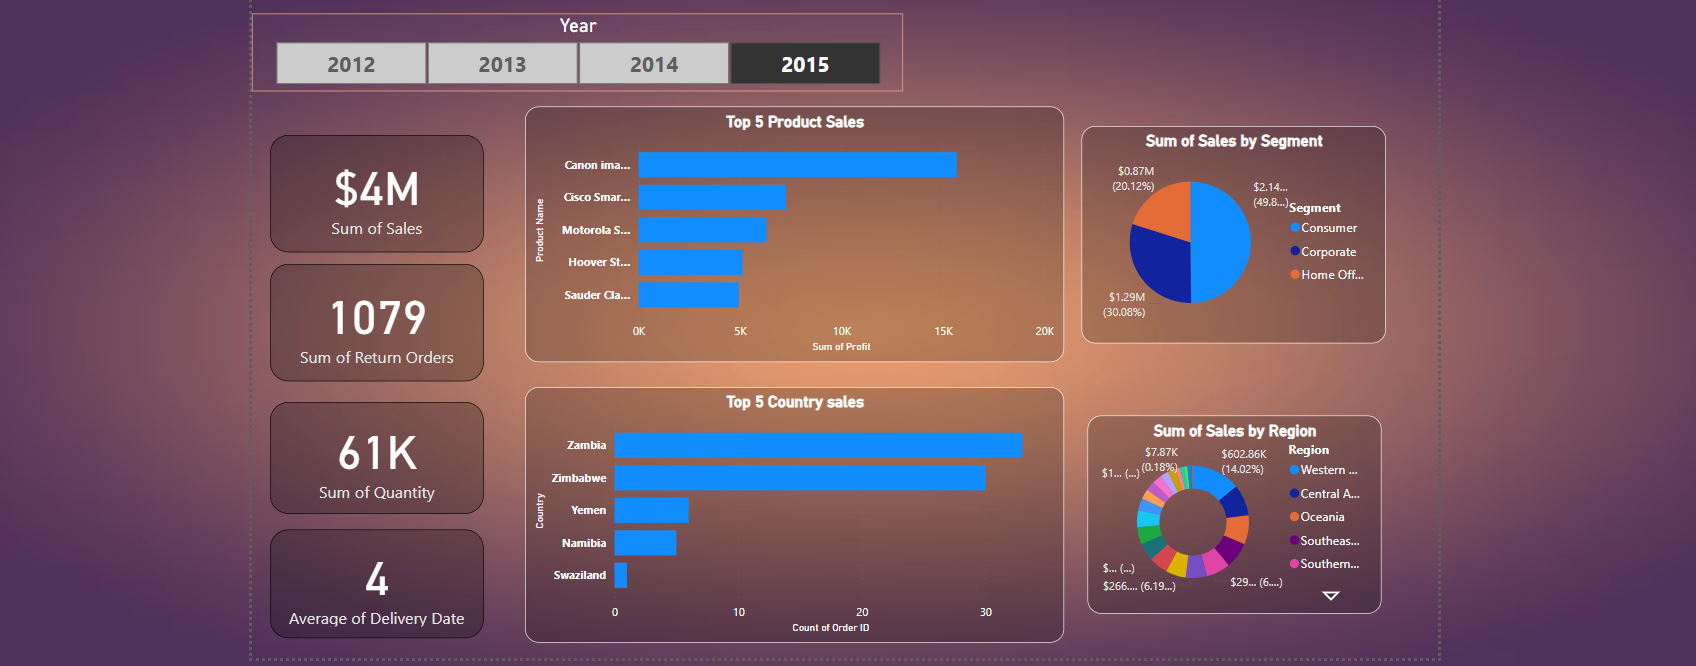

The dashboard page shown, as its layout file describes it:
{"tool":"powerbi","page":{"name":"Page 1","canvas":[1280,720],"ordinal":0},"visuals":[{"type":"card","fields":{"Values":["Sum(Orders.Sales)"]},"box":[18.9,155,230.6,126.6],"z":0},{"type":"card","fields":{"Values":["Sum(Orders.Quantity)"]},"box":[18.9,444.1,230.6,120.9],"z":1000},{"type":"card","fields":{"Values":["Avg(Orders.Delivery Date)"]},"box":[18.9,582.1,230.6,117.2],"z":2000},{"type":"slicer","title":"Year","fields":{"Values":["Orders.Year"]},"box":[0,24.3,702.7,84.2],"z":3000},{"type":"card","fields":{"Values":["Sum(Returns.Return Orders)"]},"box":[18.9,294.8,230.6,126.6],"z":4000},{"type":"clusteredBarChart","title":"Top 5 Product Sales  ","fields":{"Category":["Orders.Product Name"],"Y":["Sum(Orders.Profit)"]},"box":[294.8,124.7,582.1,275.9],"z":5000},{"type":"clusteredBarChart","title":"Top 5 Country sales","fields":{"Category":["Orders.Country"],"Y":["CountNonNull(Orders.Order ID)"]},"box":[294.8,427.1,582.1,275.9],"z":6000},{"type":"pieChart","fields":{"Category":["Orders.Segment"],"Y":["Sum(Orders.Sales)"]},"box":[895.4,145.7,328.7,234.8],"z":6001},{"type":"donutChart","fields":{"Y":["Sum(Orders.Sales)"],"Category":["Orders.Region"]},"box":[901.9,458.2,317.4,213.7],"z":6002}]}

Visuals, with their boxes on the page's 1280x720 design canvas (x1, y1, x2, y2). These are canvas units, not pixel positions in the 1696x666 screenshot, which may show the page scaled, cropped or inside an application window:
card - Sum(Orders.Sales): region(19, 155, 250, 282)
card - Sum(Orders.Quantity): region(19, 444, 250, 565)
card - Avg(Orders.Delivery Date): region(19, 582, 250, 699)
"Year" slicer: region(0, 24, 703, 108)
card - Sum(Returns.Return Orders): region(19, 295, 250, 421)
"Top 5 Product Sales  " clusteredBarChart: region(295, 125, 877, 401)
"Top 5 Country sales" clusteredBarChart: region(295, 427, 877, 703)
pieChart - Orders.Segment x Sum(Orders.Sales): region(895, 146, 1224, 380)
donutChart - Sum(Orders.Sales) x Orders.Region: region(902, 458, 1219, 672)
